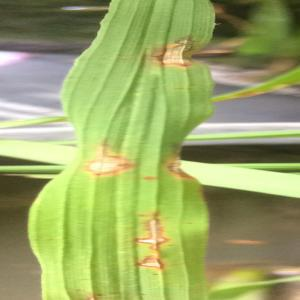1 RiceBlast: (136, 24, 221, 82), (74, 133, 143, 189), (127, 202, 180, 274), (160, 139, 204, 194)
